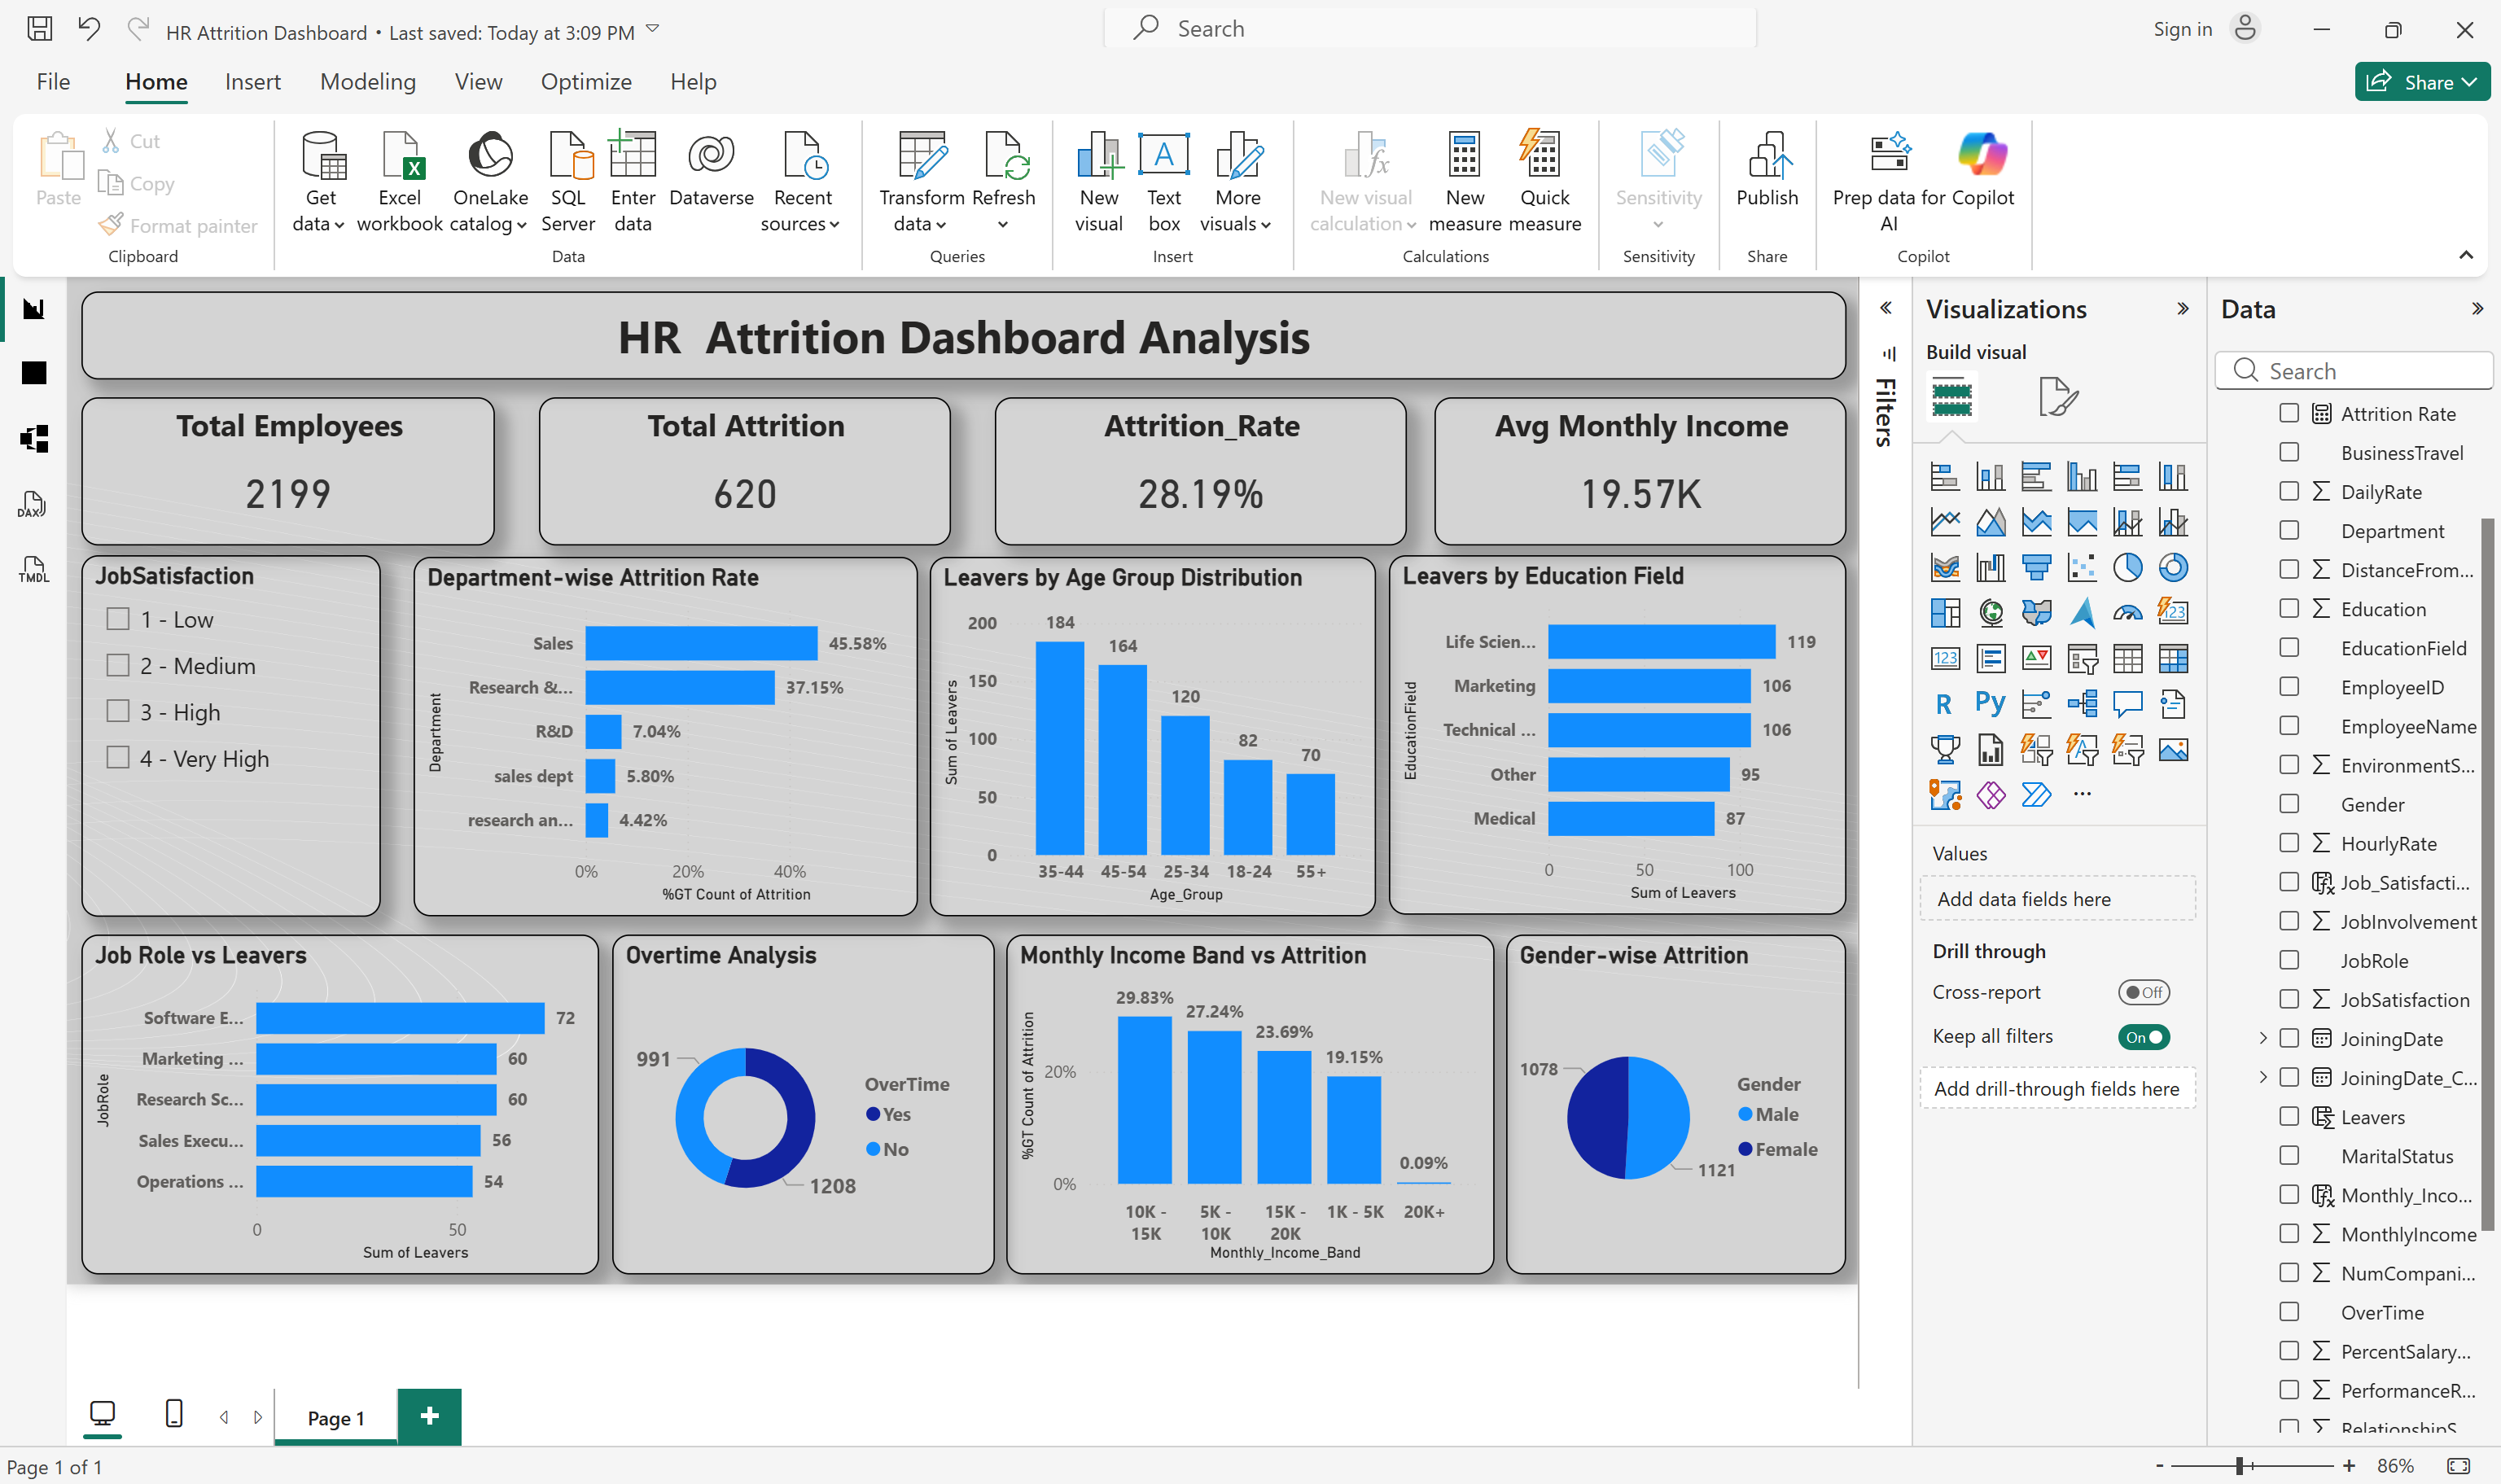

This screenshot's page, from the dashboard's own definition file:
{"tool":"powerbi","page":{"name":"Page 1","canvas":[1280,720],"ordinal":0},"visuals":[{"type":"clusteredBarChart","title":"Department-wise Attrition Rate","fields":{"Y":["CountNonNull(HR_Attrition_Cleaned.Attrition)"],"Category":["HR_Attrition_Cleaned.Department"]},"box":[247.9,200.1,360.7,257.2],"z":1000},{"type":"card","title":"Total Employees","fields":{"Values":["CountNonNull(HR_Attrition_Cleaned.EmployeeID)"]},"box":[10.5,86.1,295.6,105.9],"z":3000},{"type":"card","title":"Total Attrition","fields":{"Values":["Sum(HR_Attrition_Cleaned.Leavers)"]},"box":[337.5,86.1,294.4,105.9],"z":4000},{"type":"card","title":" Attrition_Rate","fields":{"Values":["HR_Attrition_Cleaned.Attrition Rate"]},"box":[663.3,86.1,294.4,105.9],"z":5000},{"type":"card","title":"Avg Monthly Income","fields":{"Values":["Avg(HR_Attrition_Cleaned.MonthlyIncome)"]},"box":[977.5,86.1,294.4,105.9],"z":6000},{"type":"textbox","box":[10.5,10.5,1261.4,62.8],"z":7000},{"type":"barChart","title":"Job Role vs Leavers","fields":{"Category":["HR_Attrition_Cleaned.JobRole"],"Y":["Sum(HR_Attrition_Cleaned.Leavers)"]},"box":[10.5,470.1,370,243.2],"z":11001},{"type":"clusteredColumnChart","title":"Leavers by Age Group Distribution","fields":{"Category":["HR_Attrition_Cleaned.Age_Group"],"Y":["Sum(HR_Attrition_Cleaned.Leavers)"]},"box":[616.7,200.1,318.8,257.2],"z":11002},{"type":"clusteredColumnChart","title":"Monthly Income Band vs Attrition","fields":{"Category":["HR_Attrition_Cleaned.Monthly_Income_Band"],"Y":["CountNonNull(HR_Attrition_Cleaned.Attrition)"]},"box":[671.4,470.1,349.1,243.2],"z":11003},{"type":"donutChart","title":"Overtime Analysis","fields":{"Category":["HR_Attrition_Cleaned.OverTime"],"Y":["CountNonNull(HR_Attrition_Cleaned.Attrition)"]},"box":[389.8,470.1,273.5,243.2],"z":11004},{"type":"barChart","title":" Leavers by Education Field","fields":{"Category":["HR_Attrition_Cleaned.EducationField"],"Y":["Sum(HR_Attrition_Cleaned.Leavers)"]},"box":[944.9,199,327,257.2],"z":11005},{"type":"pieChart","title":"Gender-wise Attrition","fields":{"Category":["HR_Attrition_Cleaned.Gender"],"Y":["CountNonNull(HR_Attrition_Cleaned.Attrition)"]},"box":[1028.7,470.1,243.2,243.2],"z":11006},{"type":"slicer","title":"JobSatisfaction","fields":{"Values":["HR_Attrition_Cleaned.Job_Satisfaction_Level"]},"box":[10.5,199,214.1,258.3],"z":11007}]}

Visuals, with their boxes on the page's 1280x720 design canvas (x1, y1, x2, y2). These are canvas units, not pixel positions in the 2501x1484 screenshot, which may show the page scaled, cropped or inside an application window:
"Department-wise Attrition Rate" clusteredBarChart: Rect(248, 200, 609, 457)
"Total Employees" card: Rect(10, 86, 306, 192)
"Total Attrition" card: Rect(338, 86, 632, 192)
" Attrition_Rate" card: Rect(663, 86, 958, 192)
"Avg Monthly Income" card: Rect(978, 86, 1272, 192)
textbox: Rect(10, 10, 1272, 73)
"Job Role vs Leavers" barChart: Rect(10, 470, 380, 713)
"Leavers by Age Group Distribution" clusteredColumnChart: Rect(617, 200, 936, 457)
"Monthly Income Band vs Attrition" clusteredColumnChart: Rect(671, 470, 1020, 713)
"Overtime Analysis" donutChart: Rect(390, 470, 663, 713)
" Leavers by Education Field" barChart: Rect(945, 199, 1272, 456)
"Gender-wise Attrition" pieChart: Rect(1029, 470, 1272, 713)
"JobSatisfaction" slicer: Rect(10, 199, 225, 457)
